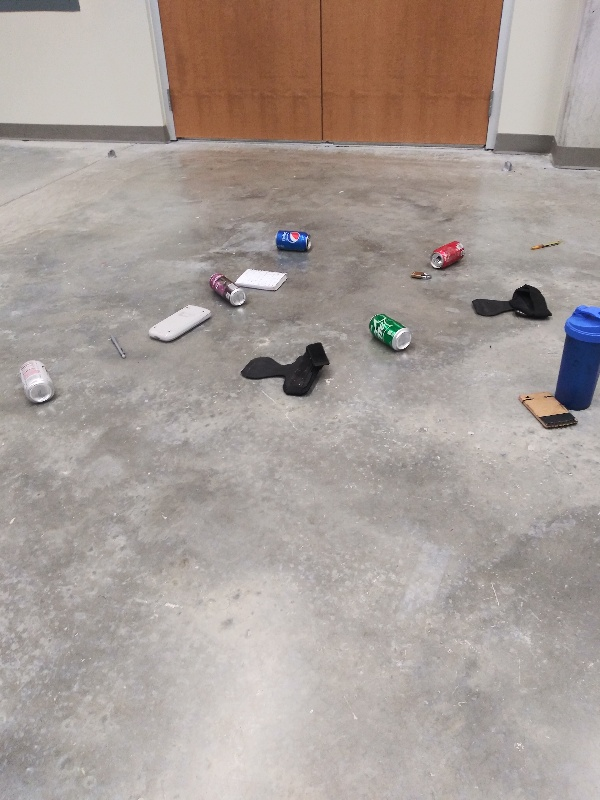can: (14, 355, 59, 407), (365, 313, 414, 353), (206, 270, 248, 310), (426, 239, 468, 273), (273, 226, 313, 255)
